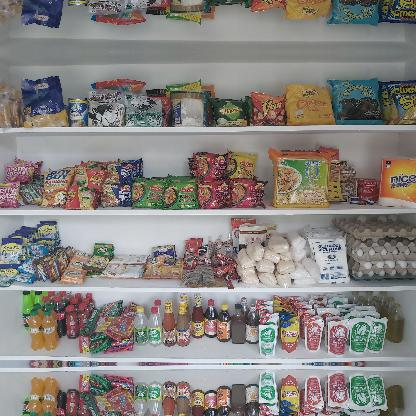Lady-s-Choice: (172, 92, 204, 126), (171, 0, 205, 13)
